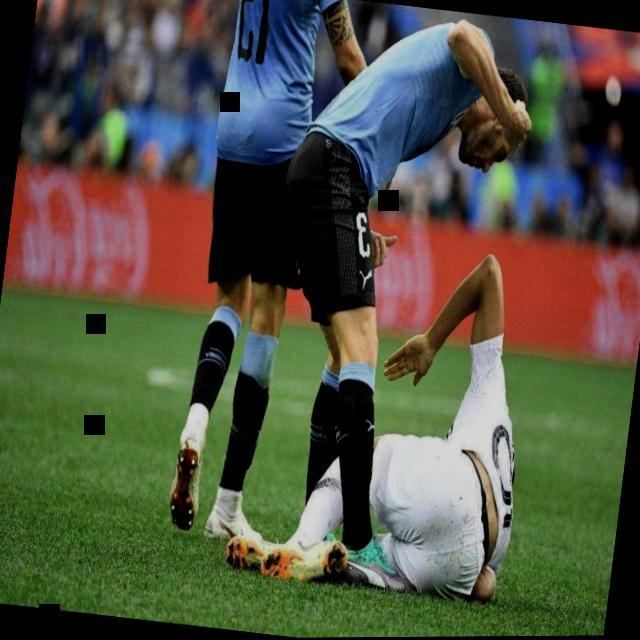Fall-Detected: (222, 219, 564, 615)
